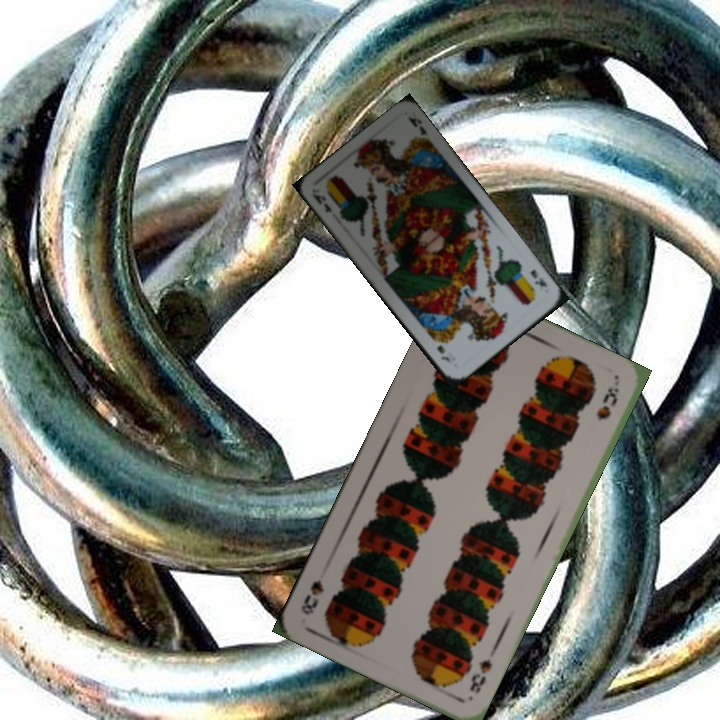EK: (308, 188, 335, 215), (526, 265, 550, 290)
S8: (465, 654, 495, 696)
